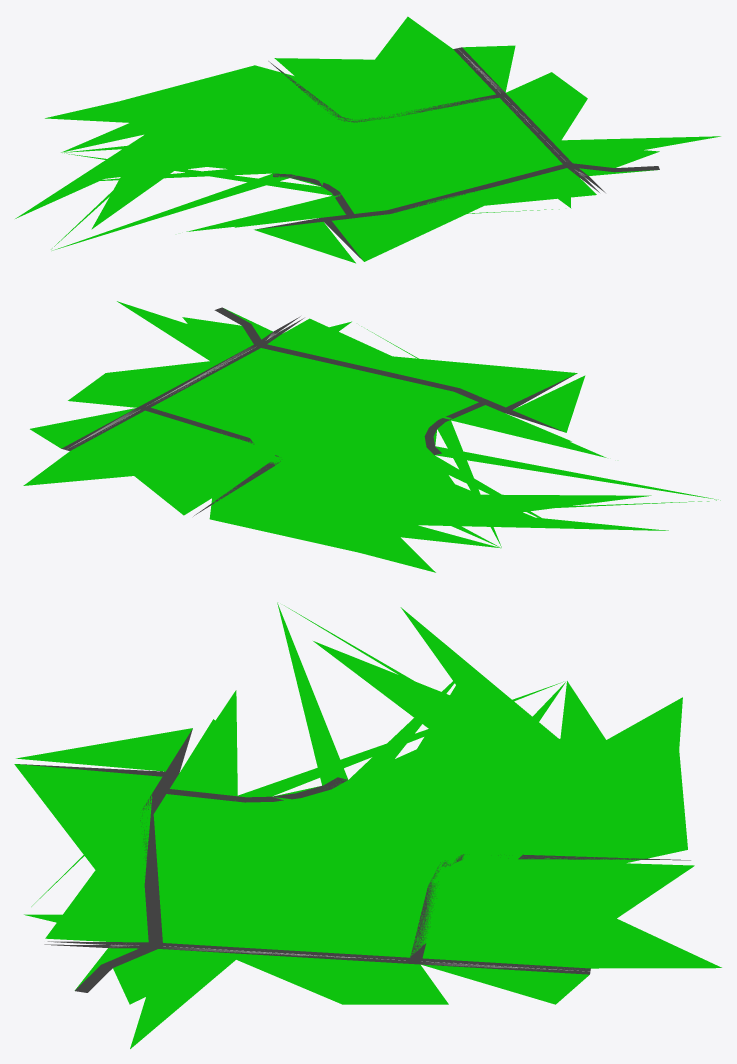
The picture shows the model from 3 angles, top to bottom: view 1: azimuth 30°, elevation 25°; view 2: azimuth 150°, elevation 25°; view 3: azimuth 270°, elevation 25°; orthographic projection. The views are drawn at different scales.
Size of the model in its own units: 299 by 0.001 by 200.
